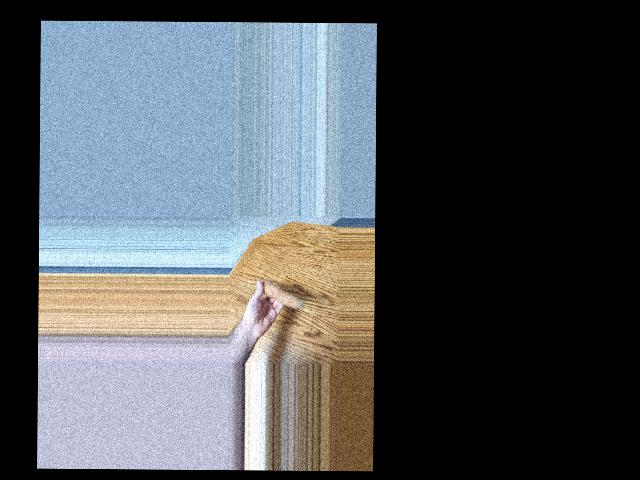sweet_potato: (254, 278, 306, 313)
